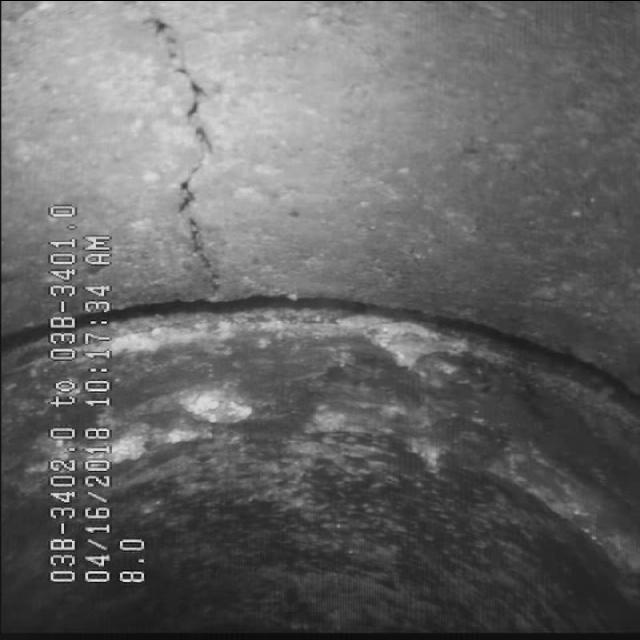Crack: (126, 41, 246, 292)
